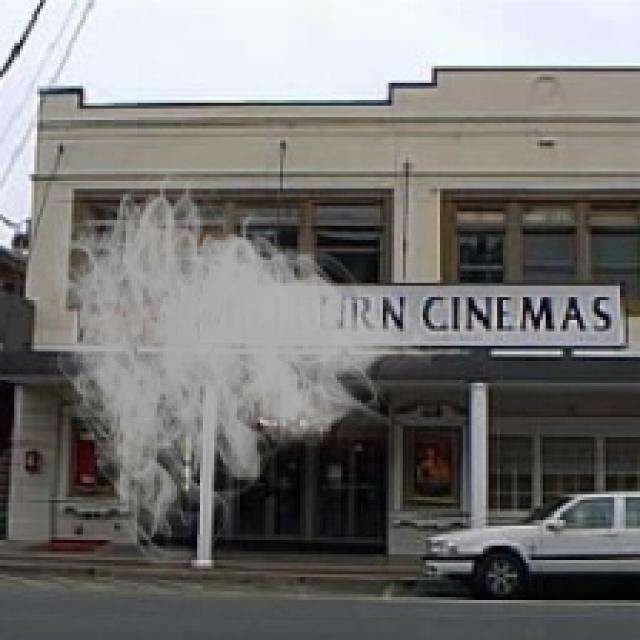smoke: (29, 157, 432, 574)
